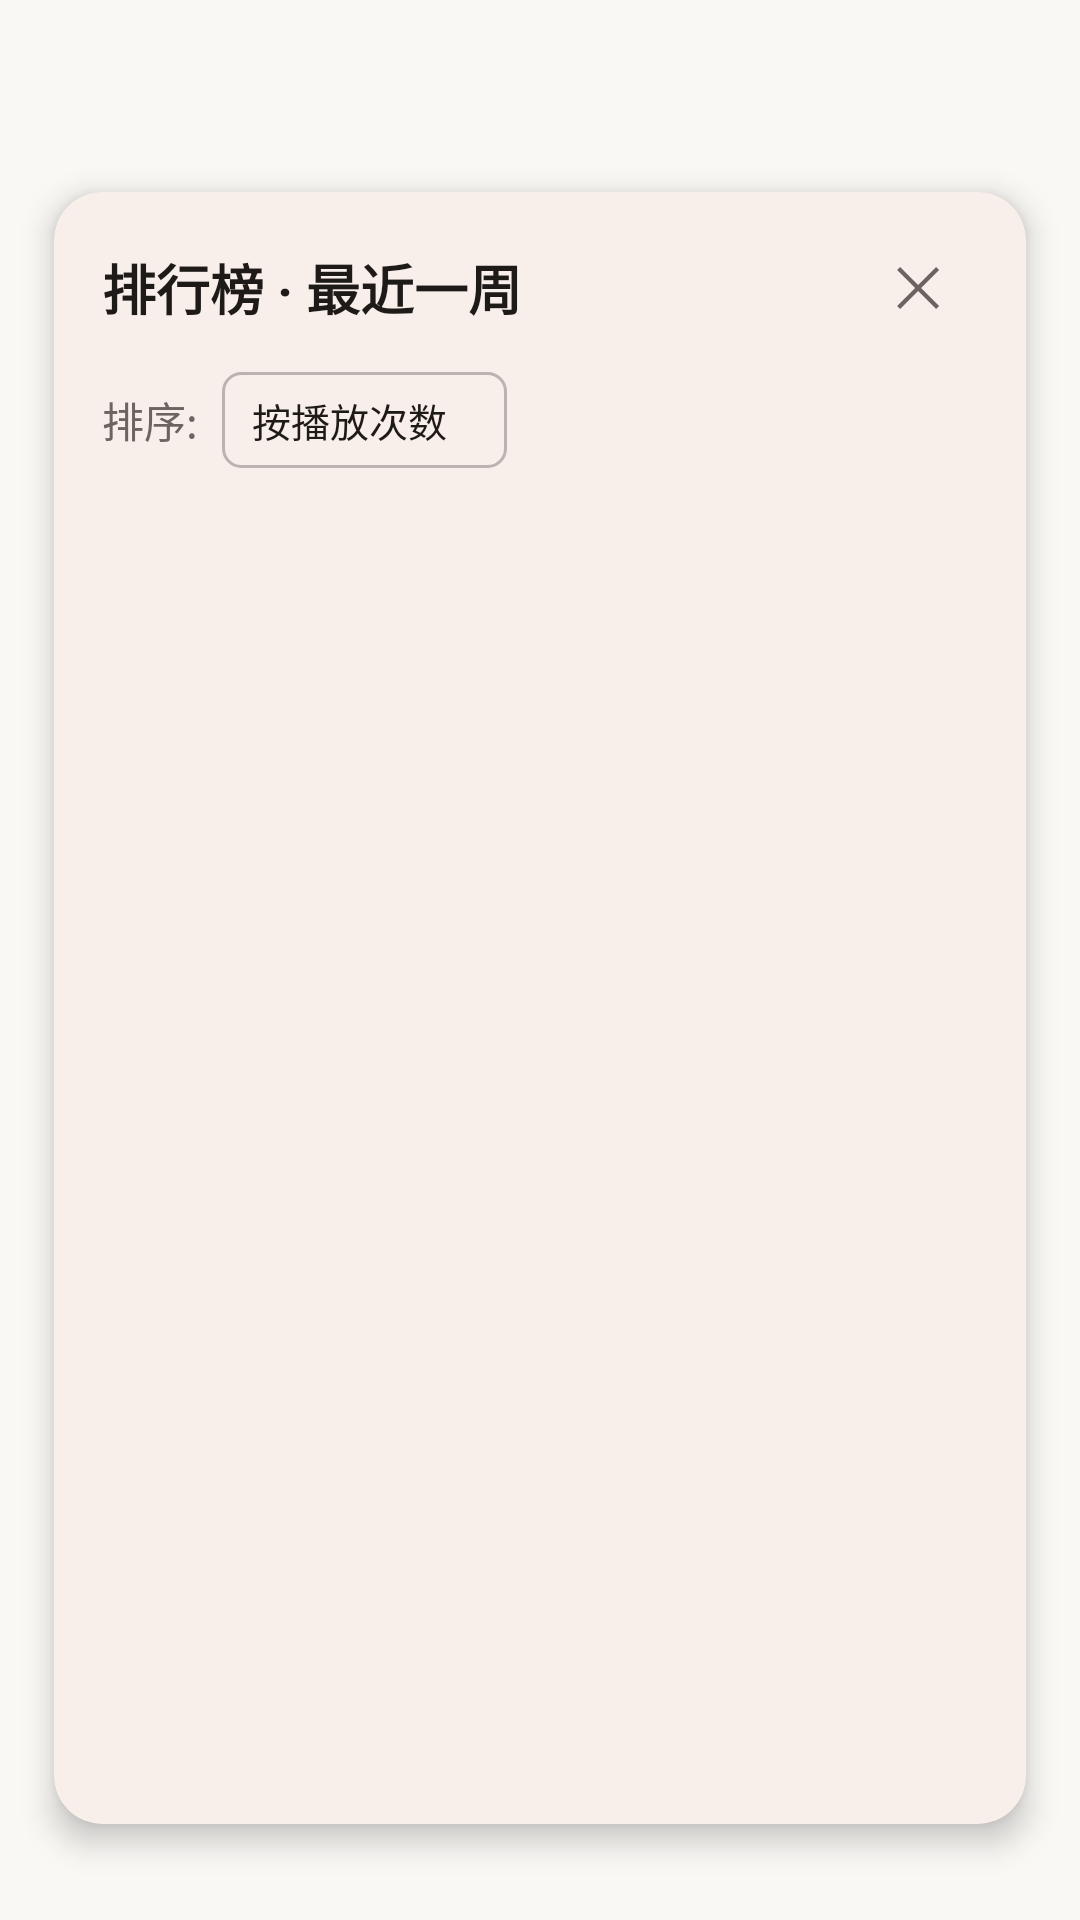

Screen size 1080*1920. Icon name, then its box in pixels as box(x1, y1, x2, y2):
关闭: box(897, 267, 939, 309)
